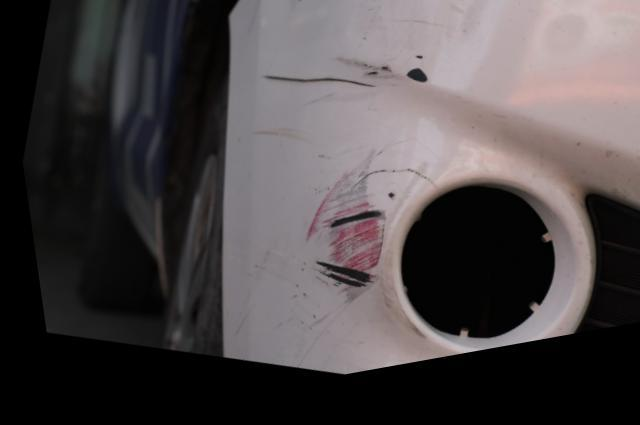scratch: (249, 0, 481, 123), (282, 167, 380, 318)
